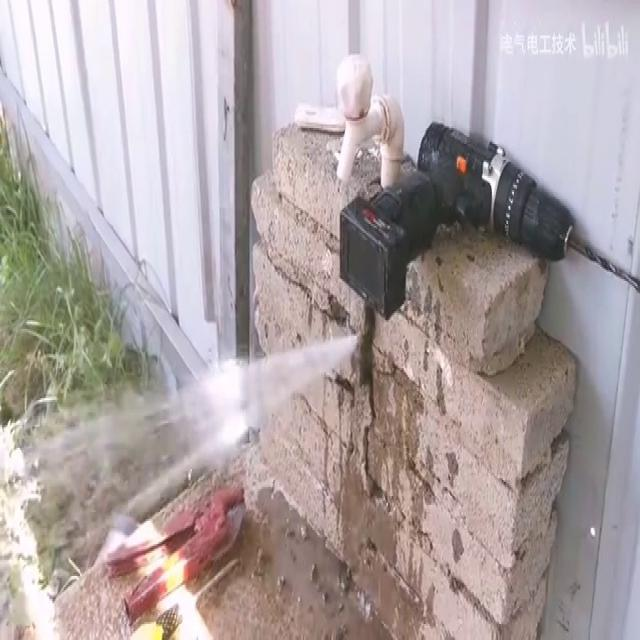leak: (0, 332, 360, 640)
